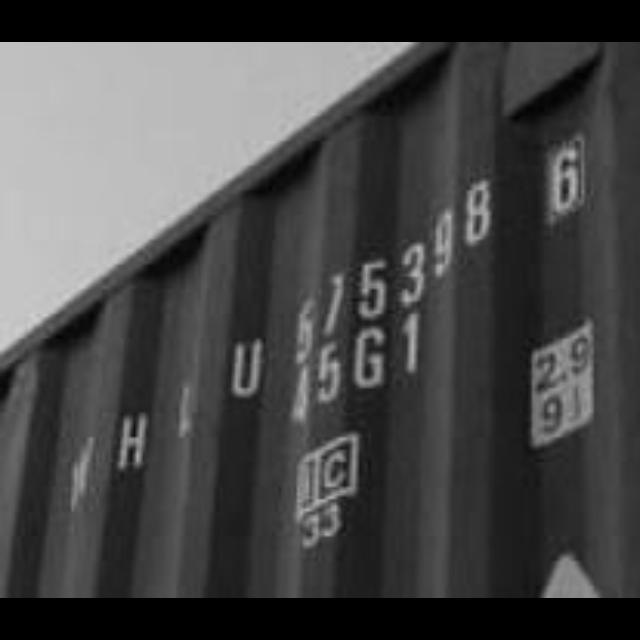1: (566, 380, 590, 428)
2: (528, 342, 564, 393)
3: (396, 240, 434, 310), (319, 501, 346, 545), (293, 510, 323, 548)
5: (348, 256, 392, 326), (286, 293, 322, 369)
6: (544, 140, 588, 214)
7: (321, 266, 352, 344)
8: (459, 173, 495, 249)
9: (428, 208, 458, 280), (535, 389, 567, 441), (564, 334, 596, 378)
a: (292, 456, 316, 508)
c: (314, 444, 356, 498)
h: (115, 409, 157, 475)
l: (172, 376, 202, 439)
u: (223, 332, 265, 394)
w: (52, 437, 106, 509)
